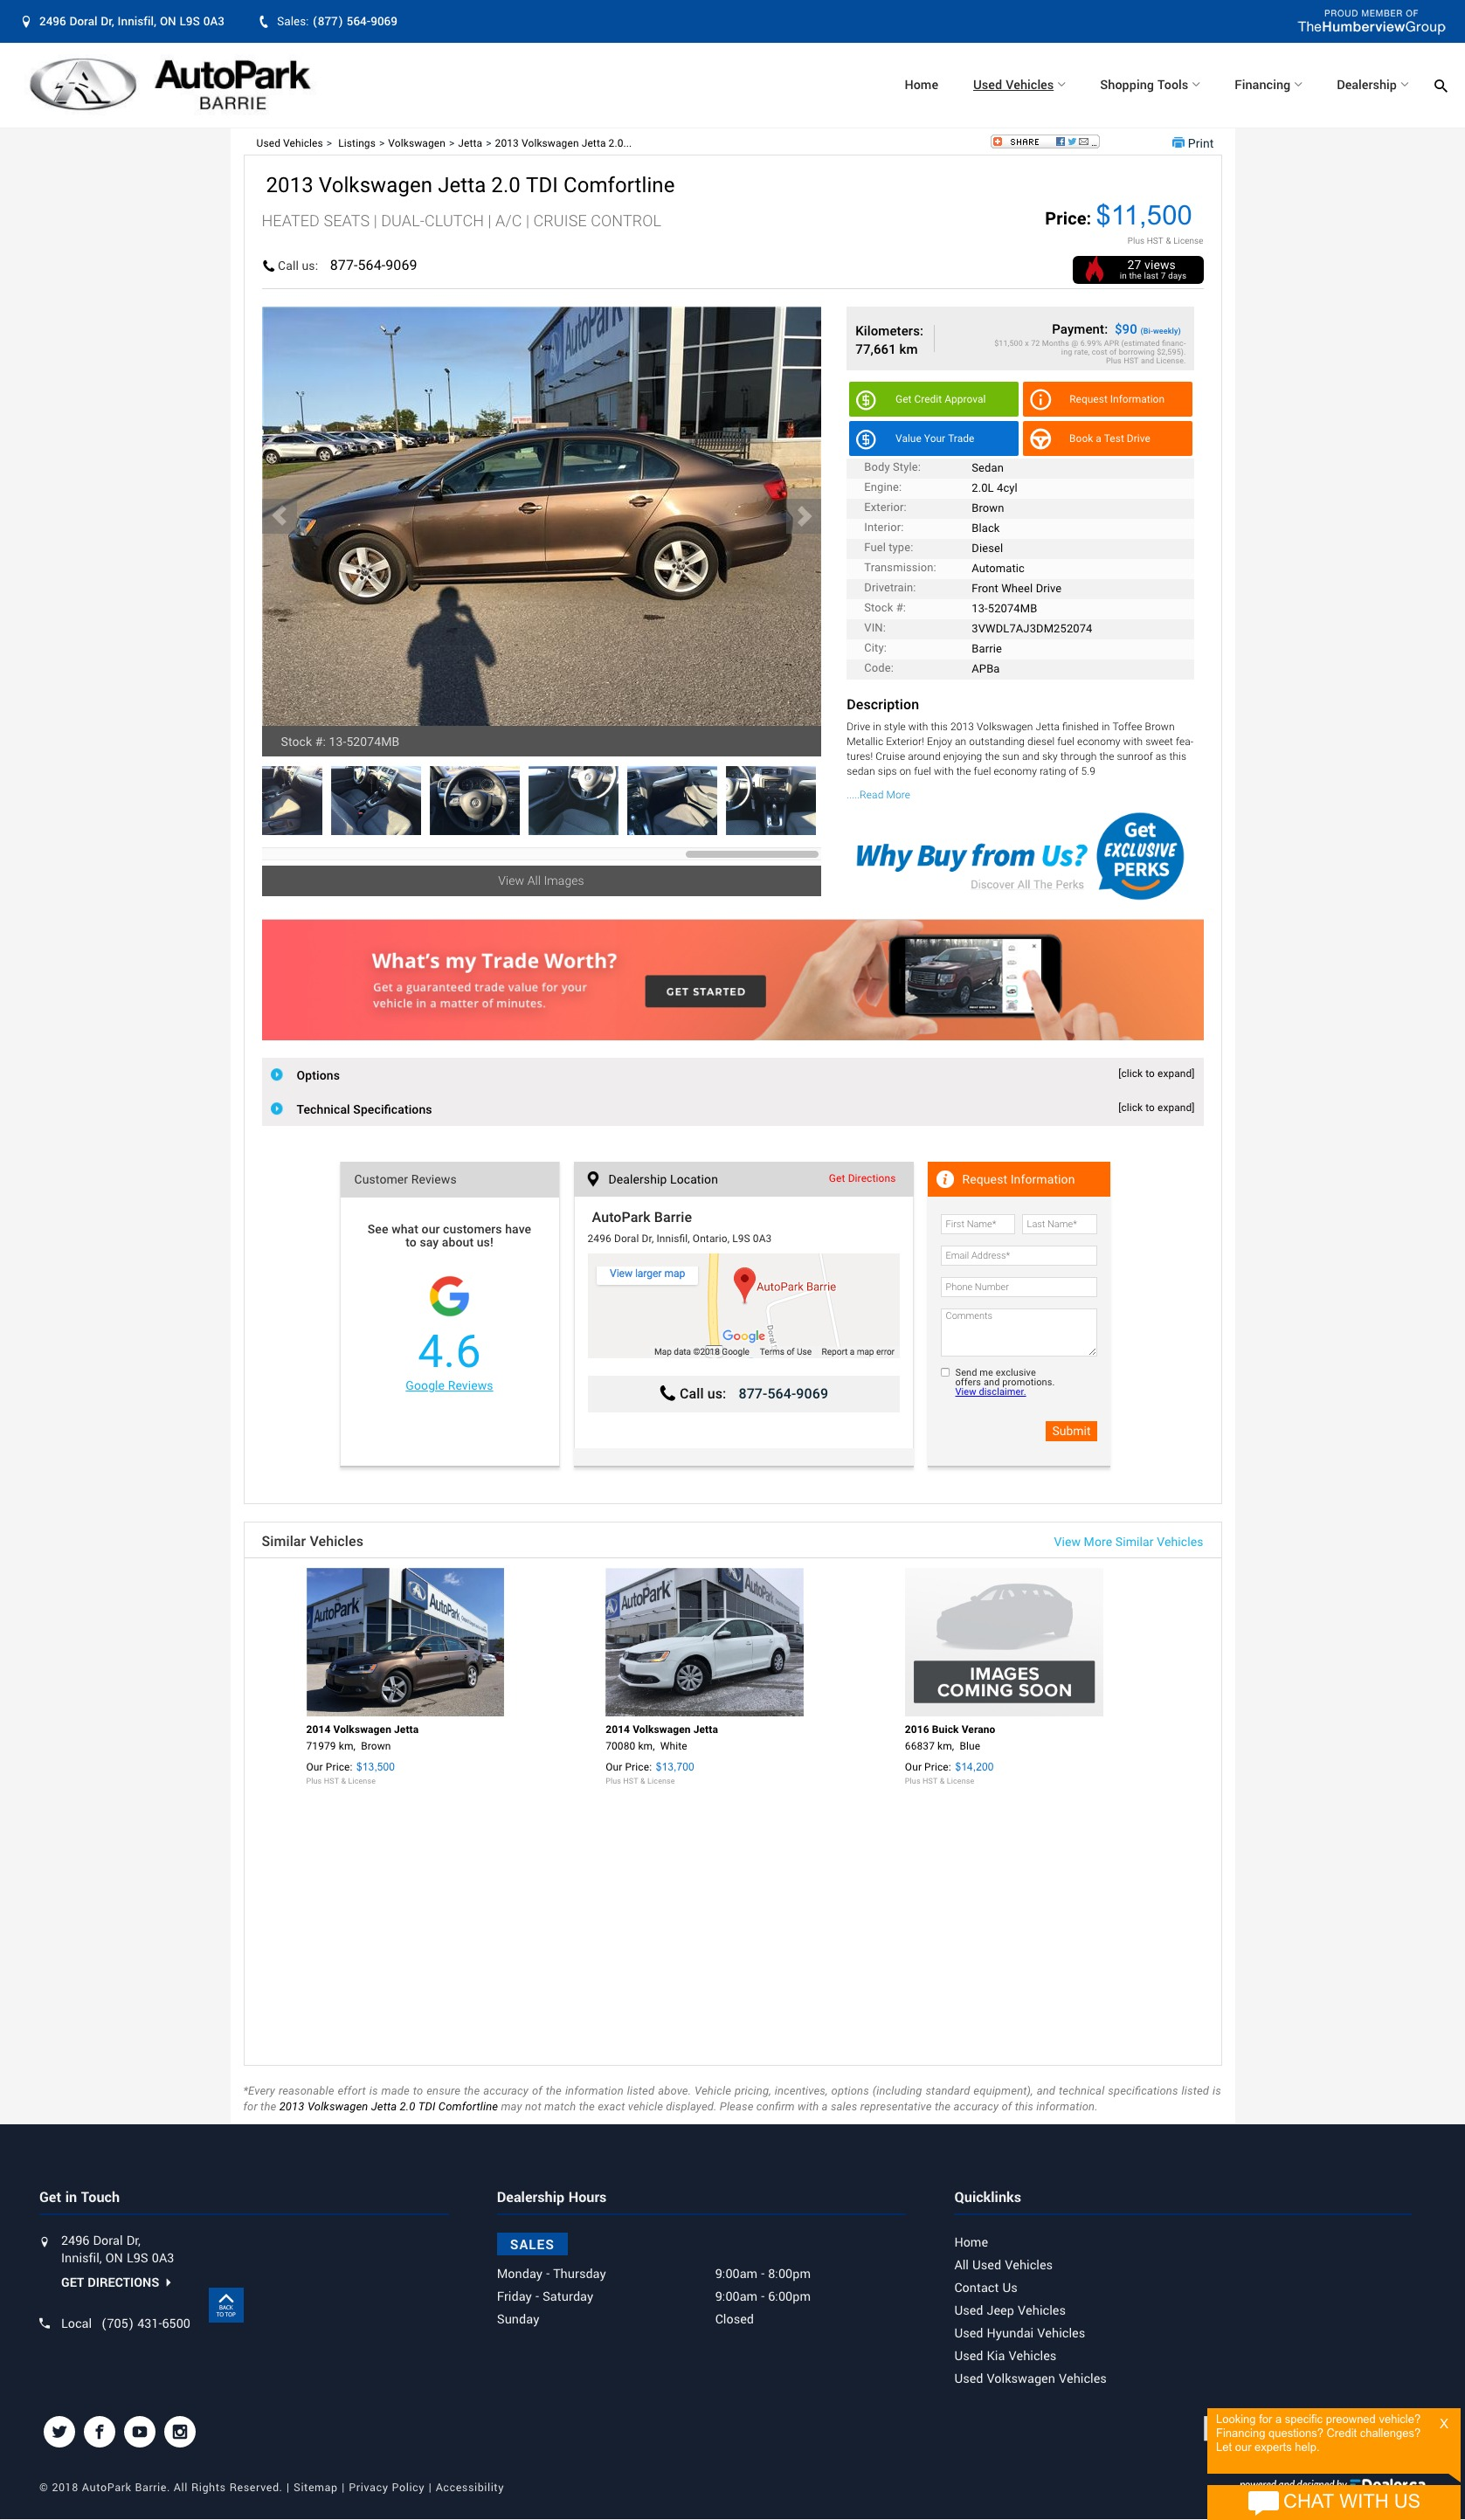car: (785, 495, 823, 537)
